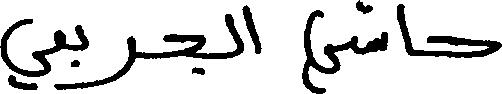X: (0, 14, 49, 93), (304, 5, 339, 93), (90, 31, 135, 91), (429, 31, 501, 62), (351, 0, 386, 59), (165, 29, 203, 79), (243, 0, 259, 58), (76, 20, 88, 93), (225, 9, 241, 63), (398, 0, 411, 60), (54, 25, 64, 93)
